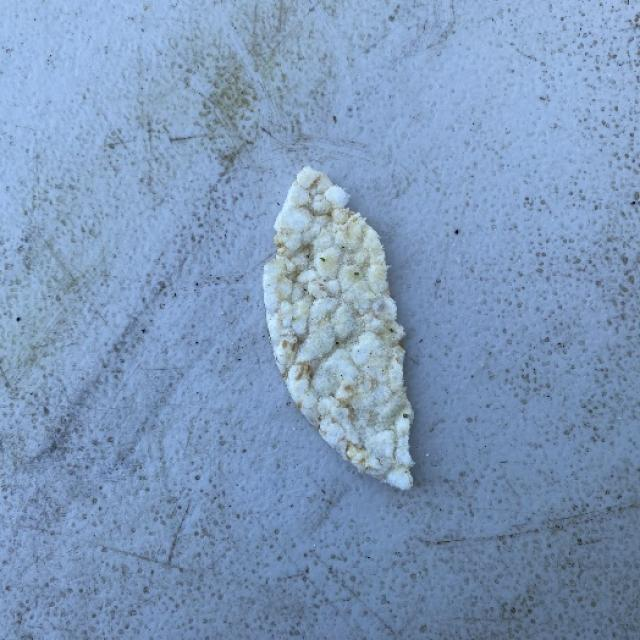organik: (270, 163, 420, 484)
